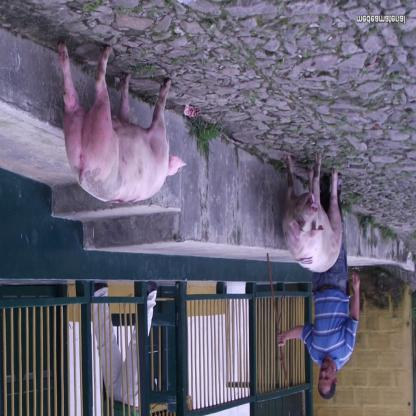boar: (57, 40, 187, 204), (281, 152, 342, 274)
